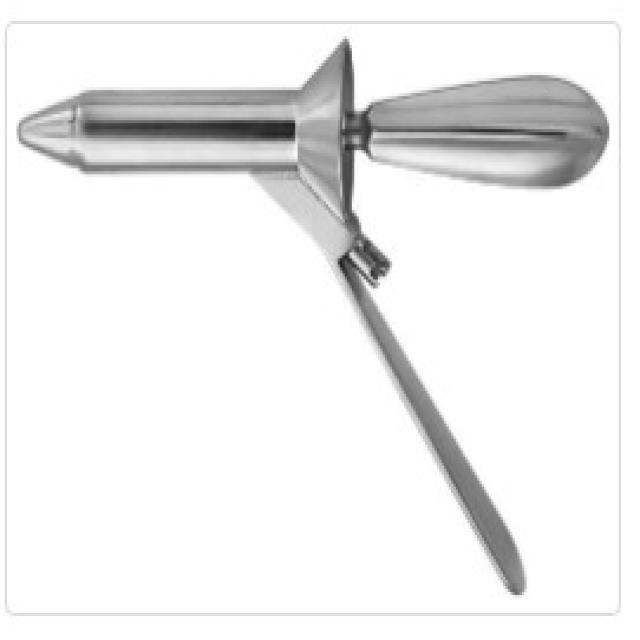Protoscope: (13, 40, 616, 598)
